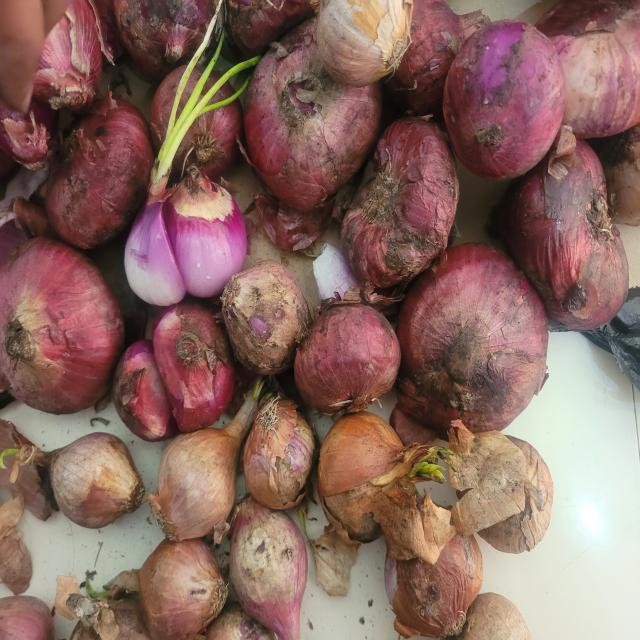mechanical_damage: (103, 298, 232, 446), (114, 178, 244, 305)
